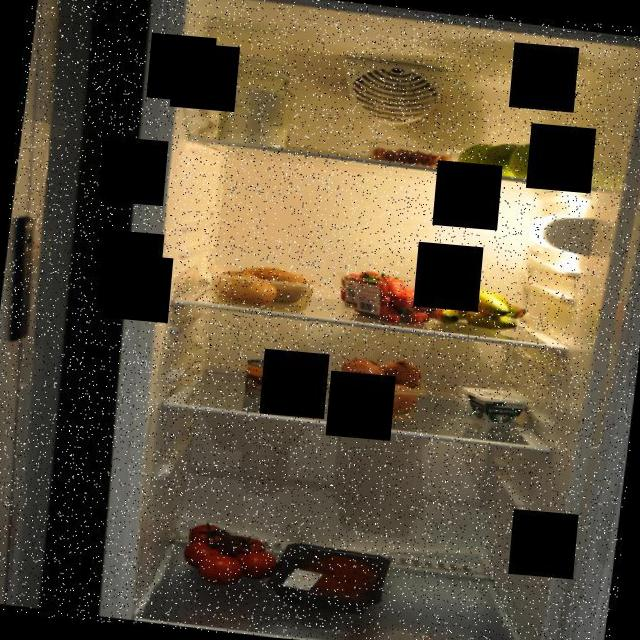Carne vacuno: (289, 546, 373, 602)
Cebolla: (334, 352, 424, 419)
Gambas/Langostinos: (359, 137, 456, 172)
Manzana: (453, 130, 576, 188)
Patata: (206, 258, 320, 316)
Plátano: (434, 279, 534, 337)
Tomate: (174, 516, 284, 594)
